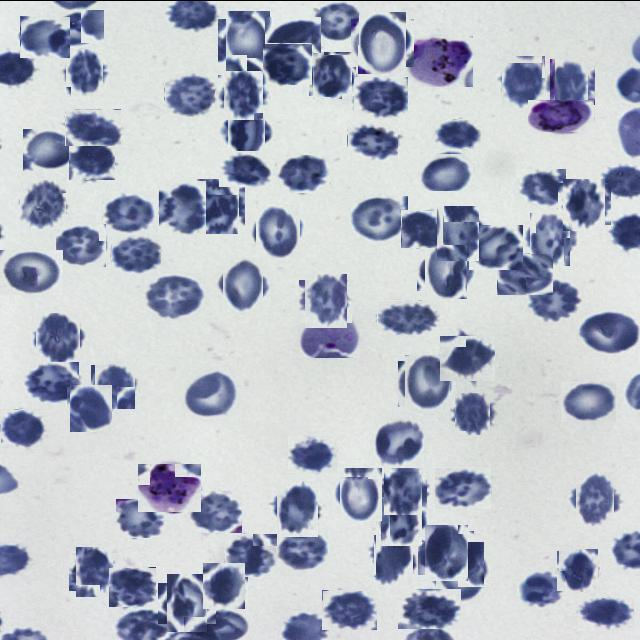difficult: (403, 35, 473, 86)
gametocyte: (528, 99, 594, 131)
red blood cell: (354, 14, 410, 70), (432, 544, 487, 599), (182, 369, 241, 419), (144, 272, 205, 320), (0, 249, 63, 294), (348, 196, 408, 243), (577, 310, 640, 354), (373, 415, 425, 467), (402, 357, 454, 409), (222, 14, 274, 66), (158, 179, 206, 235), (526, 276, 582, 322), (442, 332, 492, 383), (398, 588, 461, 628), (422, 244, 472, 294), (421, 527, 471, 577), (162, 578, 212, 628), (102, 190, 158, 234), (272, 483, 322, 532), (469, 224, 523, 269), (193, 181, 242, 230), (433, 208, 482, 257), (254, 206, 304, 254), (434, 466, 491, 508), (223, 532, 277, 576), (500, 56, 548, 105), (497, 252, 553, 294), (46, 8, 104, 48), (34, 314, 82, 362), (19, 179, 67, 227), (302, 276, 350, 324), (337, 469, 385, 517), (560, 380, 616, 421), (164, 71, 215, 116), (275, 527, 328, 570), (354, 76, 408, 118), (23, 128, 77, 170), (527, 214, 574, 262), (561, 180, 608, 228), (24, 361, 79, 402), (55, 222, 106, 266), (189, 490, 242, 532), (377, 299, 440, 334), (322, 589, 377, 629), (220, 261, 266, 308), (223, 108, 270, 154), (546, 61, 592, 108), (310, 0, 359, 44), (572, 476, 618, 522), (262, 42, 312, 84), (20, 15, 70, 57), (65, 108, 121, 145), (379, 498, 425, 543), (68, 385, 114, 430), (420, 152, 474, 190), (277, 154, 331, 192), (347, 120, 398, 160), (371, 536, 416, 581), (220, 72, 266, 116), (265, 16, 321, 52), (111, 233, 161, 273), (516, 168, 566, 207), (94, 362, 138, 406), (310, 53, 354, 97), (72, 549, 116, 593), (202, 563, 246, 607), (108, 566, 156, 606), (219, 150, 272, 186), (578, 598, 634, 632), (116, 498, 164, 537), (64, 48, 106, 92), (382, 468, 424, 512), (517, 570, 565, 608), (288, 435, 337, 472), (69, 141, 115, 179), (558, 550, 600, 590), (0, 408, 44, 446), (401, 210, 446, 247), (453, 393, 492, 432), (434, 118, 481, 148)
ring: (299, 313, 362, 357)
trophozoite: (137, 462, 201, 511)
